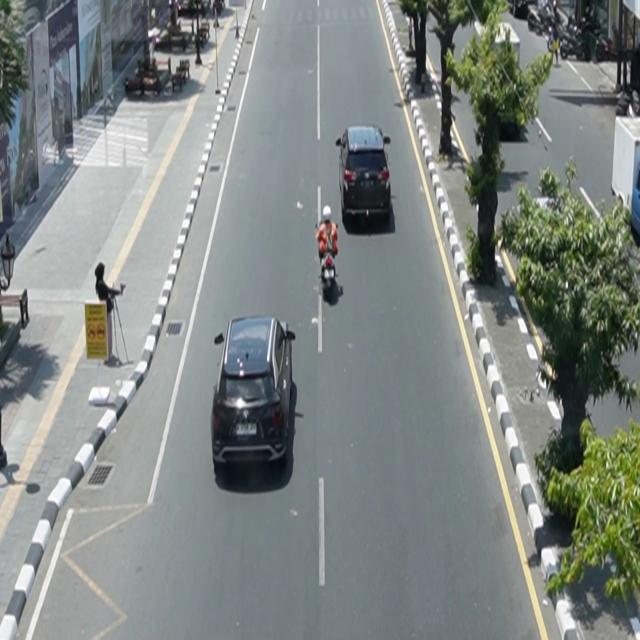car: (211, 315, 297, 472), (336, 125, 393, 225)
